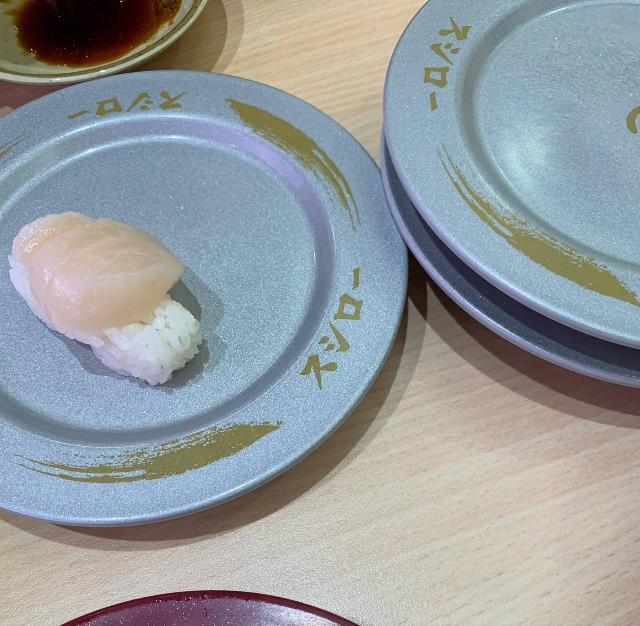janred: (25, 610, 402, 626)
janwhite: (0, 98, 409, 505), (370, 18, 640, 296), (378, 241, 640, 433)
